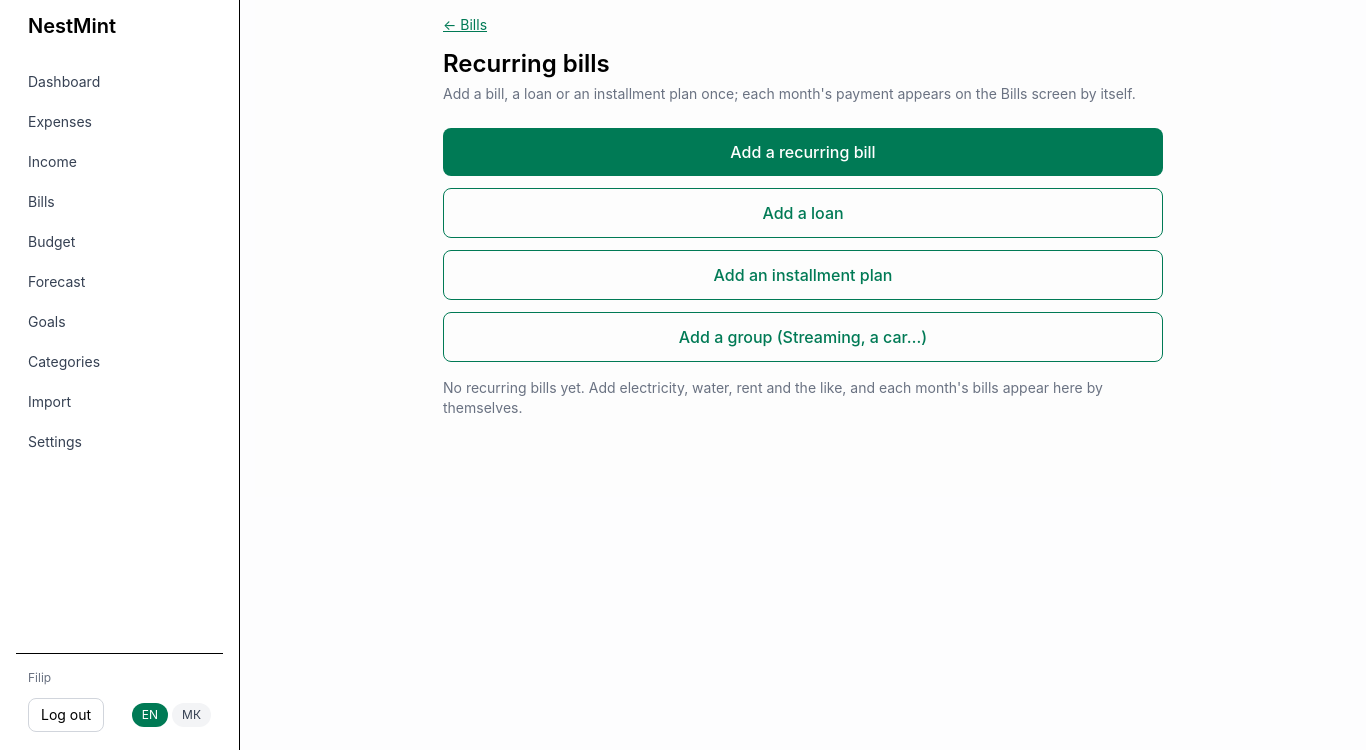
Test: ObligationsPage: adding › saves a monthly bill and then shows it in the list
This screenshot has width=1366, height=750.
Click the button "Add a recurring bill" at (803, 152), box [443, 128, 1163, 176]
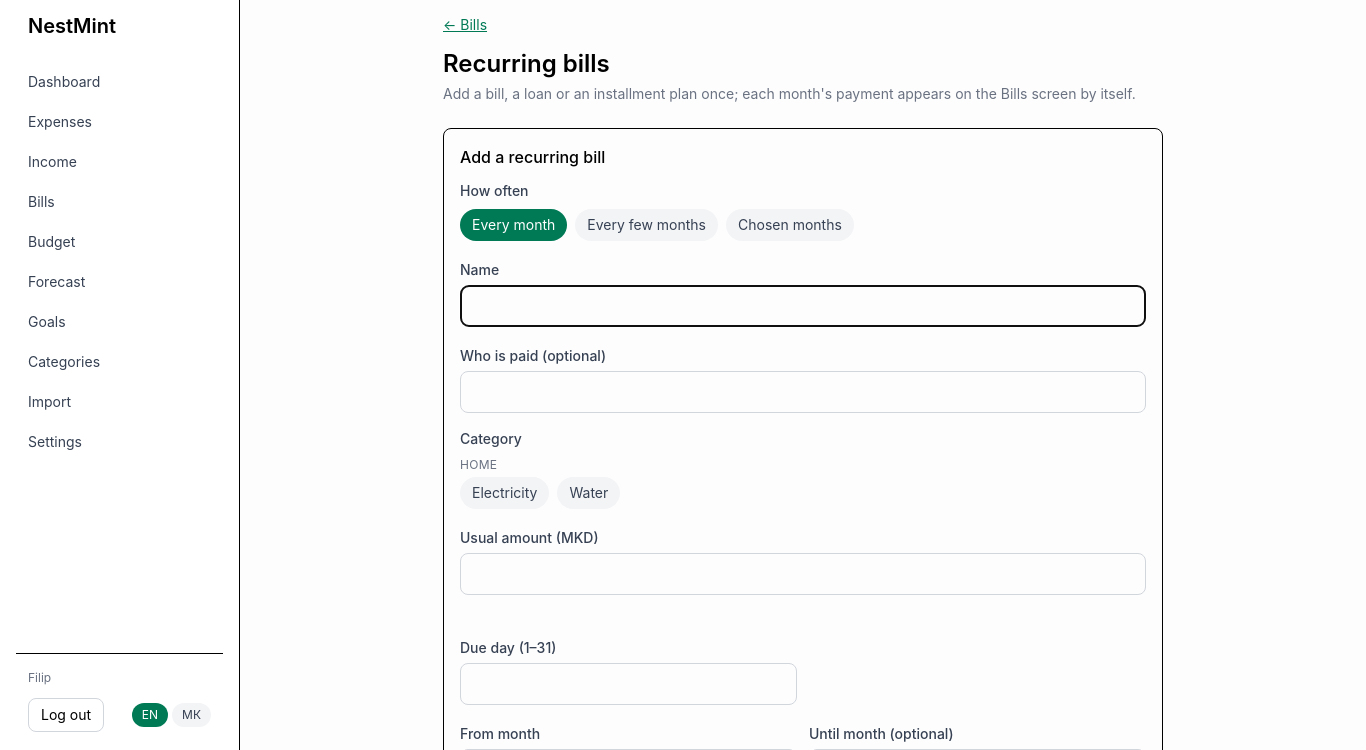
Type "Water" into the field labelled "Name" at (803, 306), box [460, 285, 1146, 327]
Click the radio button labelled "Water" at (589, 493), box [558, 477, 620, 509]
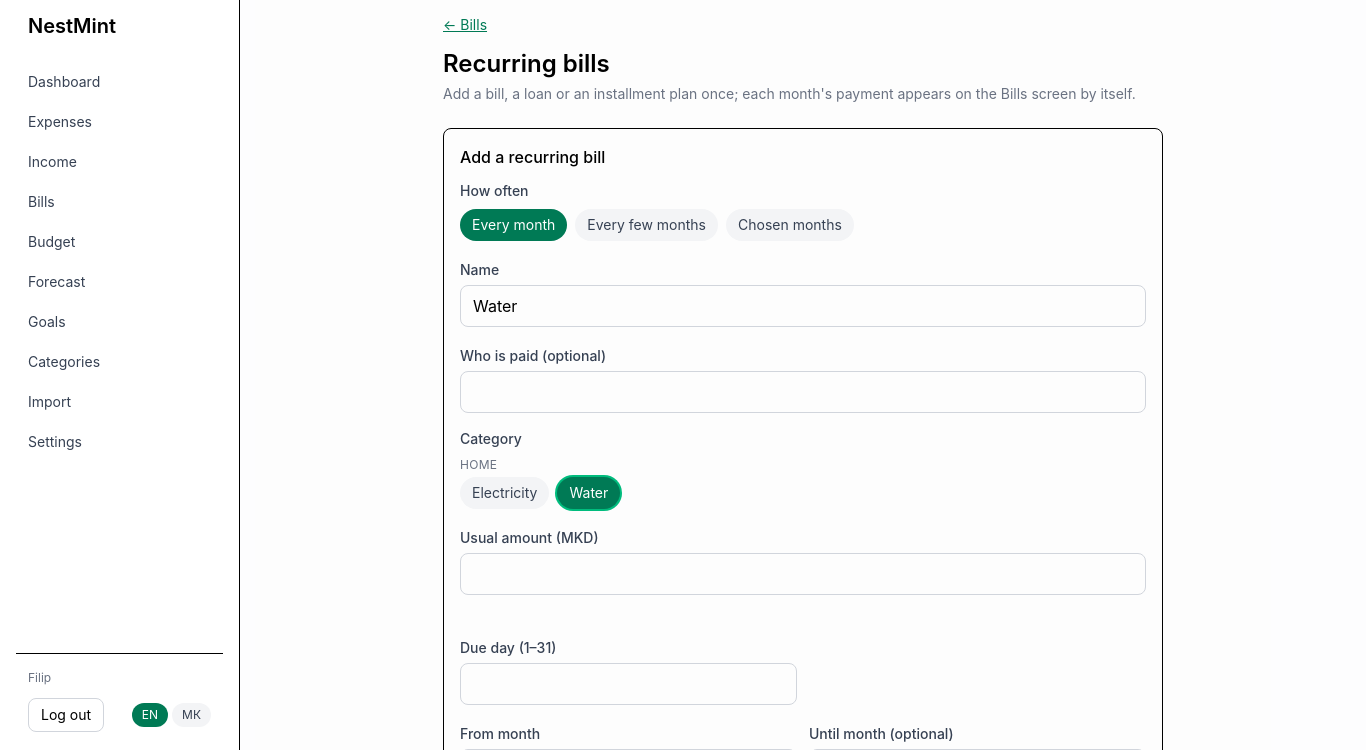
Type "1200" into the field labelled "Usual amount (MKD)" at (803, 574), box [460, 553, 1146, 595]
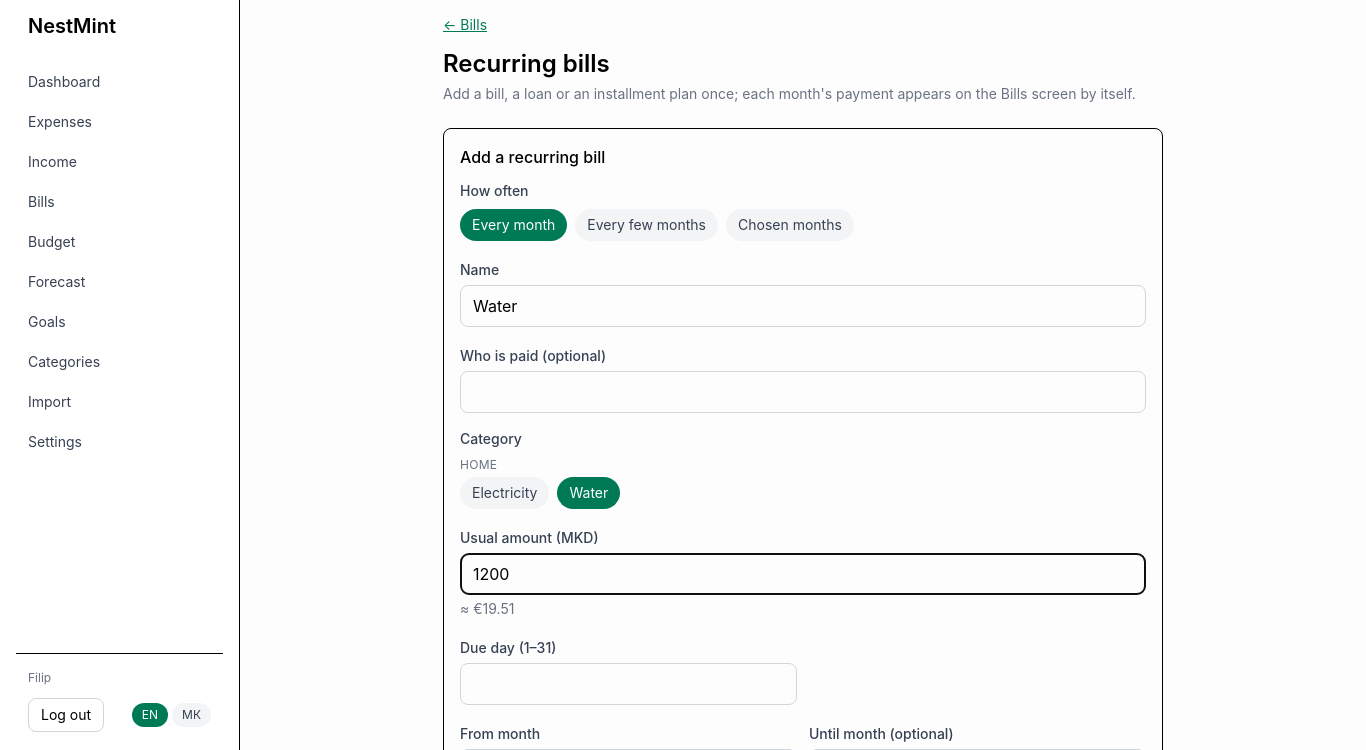
Type "10" into the field labelled "Due day (1–31)" at (628, 684), box [460, 663, 797, 705]
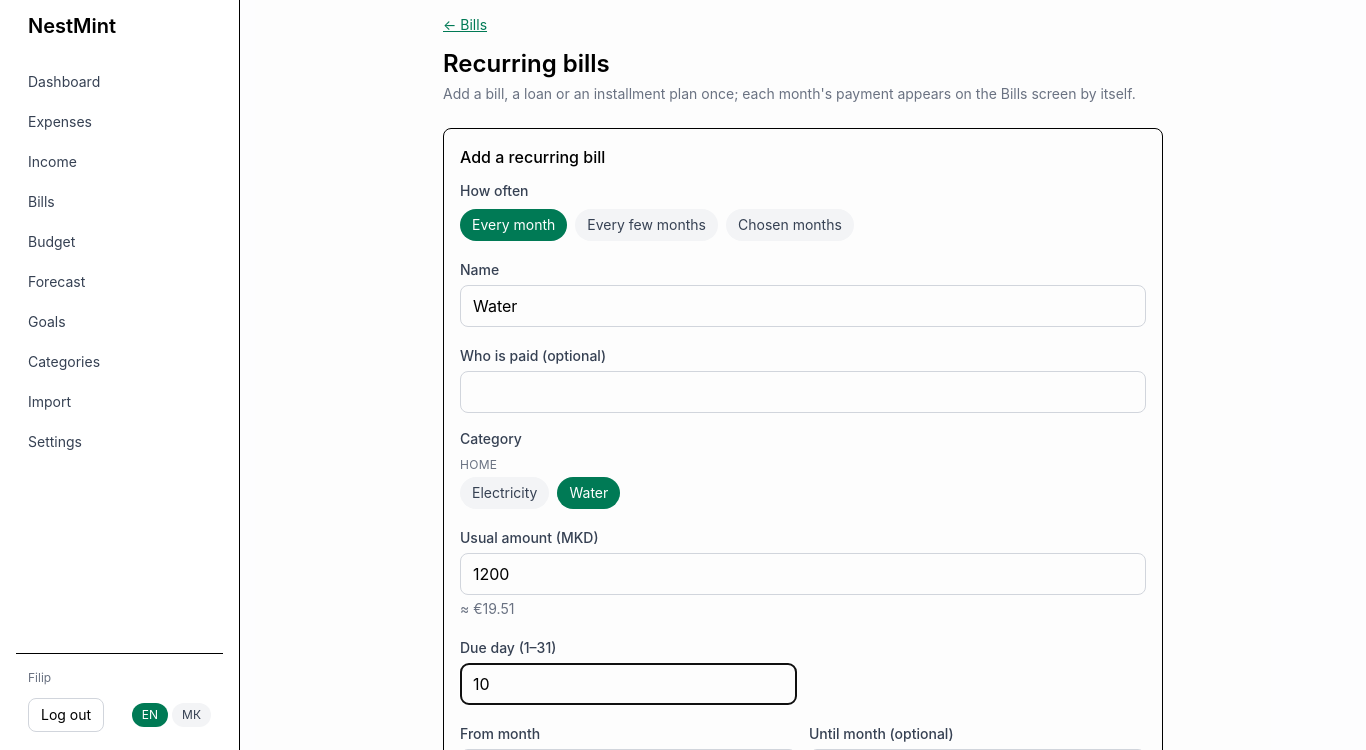
Type "Vodovod" into the field labelled "Who is paid (optional)" at (803, 392), box [460, 371, 1146, 413]
(page scrolled)
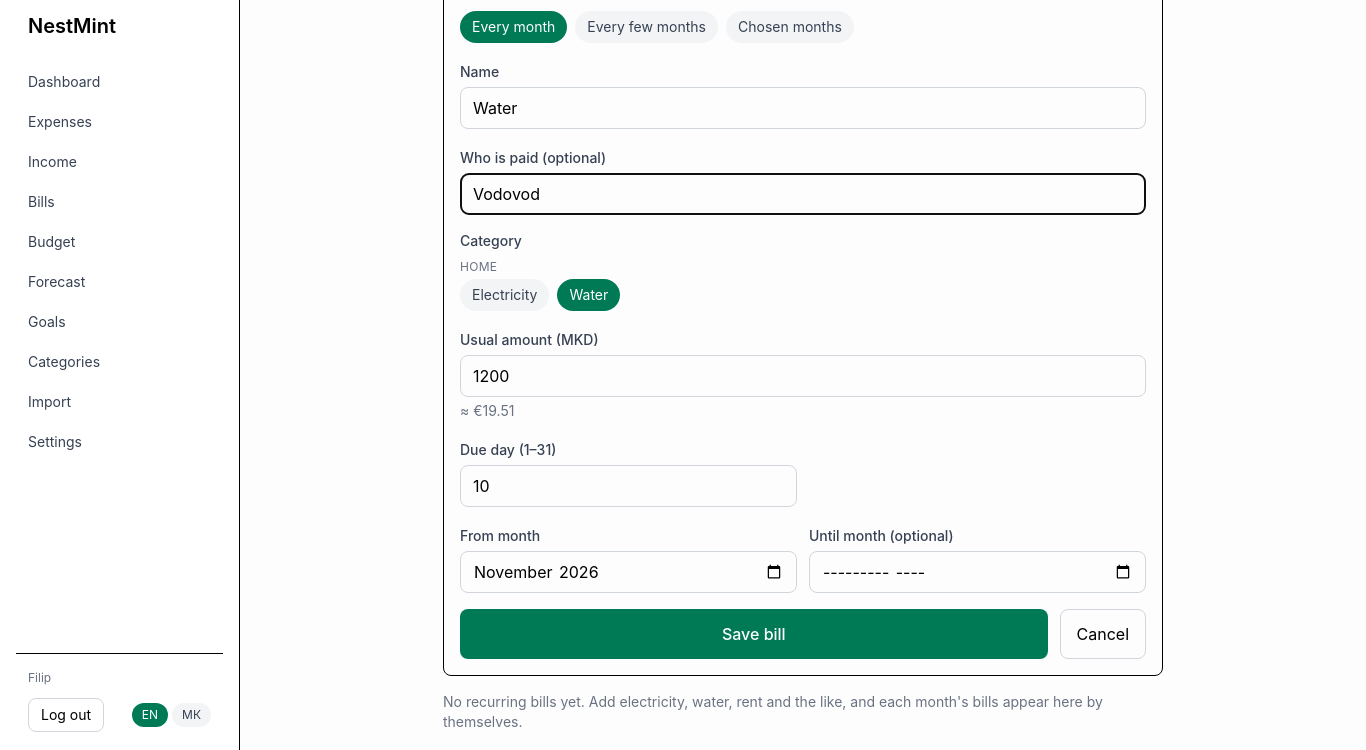
Click the button "Save bill" at (754, 634), box [460, 609, 1048, 659]
(page scrolled)
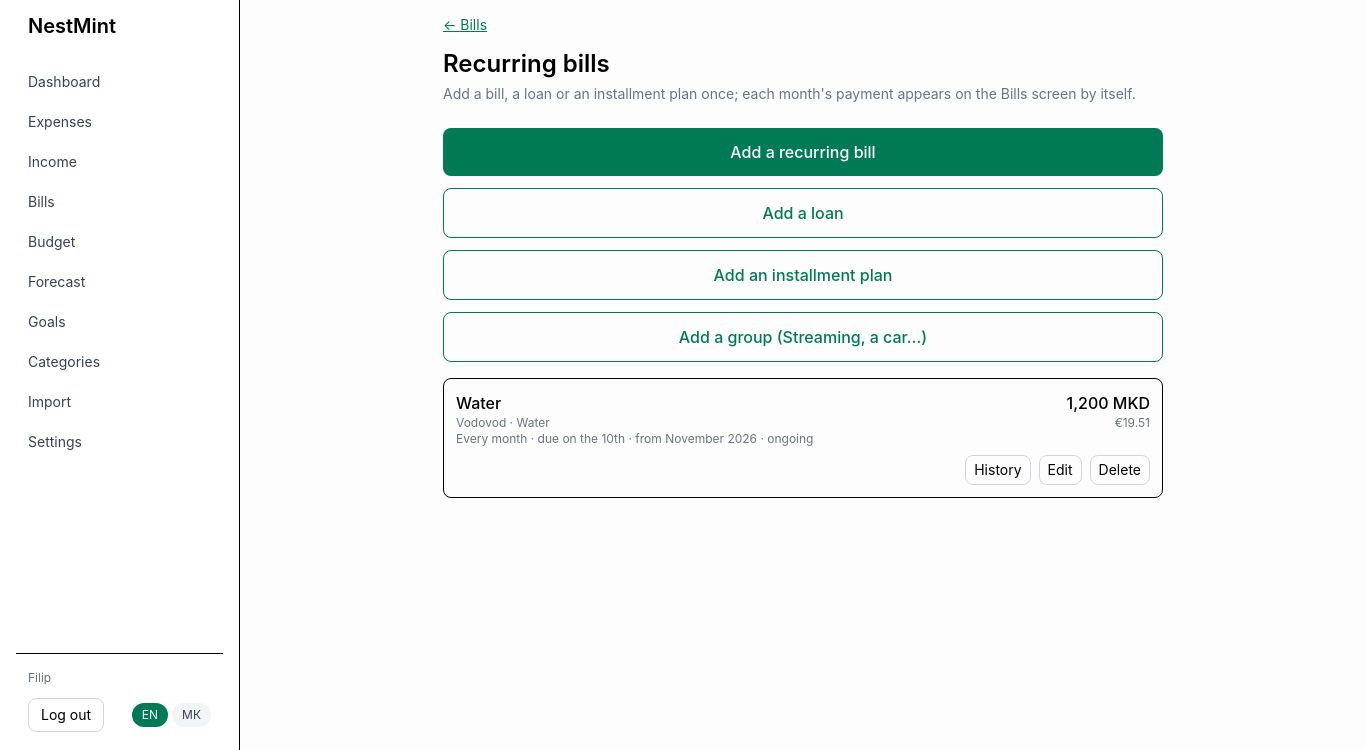
Check: the text "Every month · due on the 10th · from November 2026 · ongoing" is shown, box [456, 431, 814, 447]
Check: the button "Save bill" is gone
